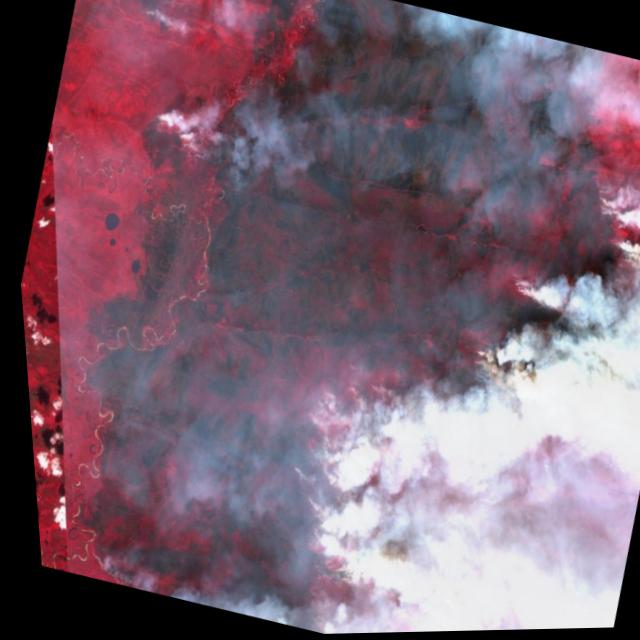fire: (217, 103, 640, 636)
